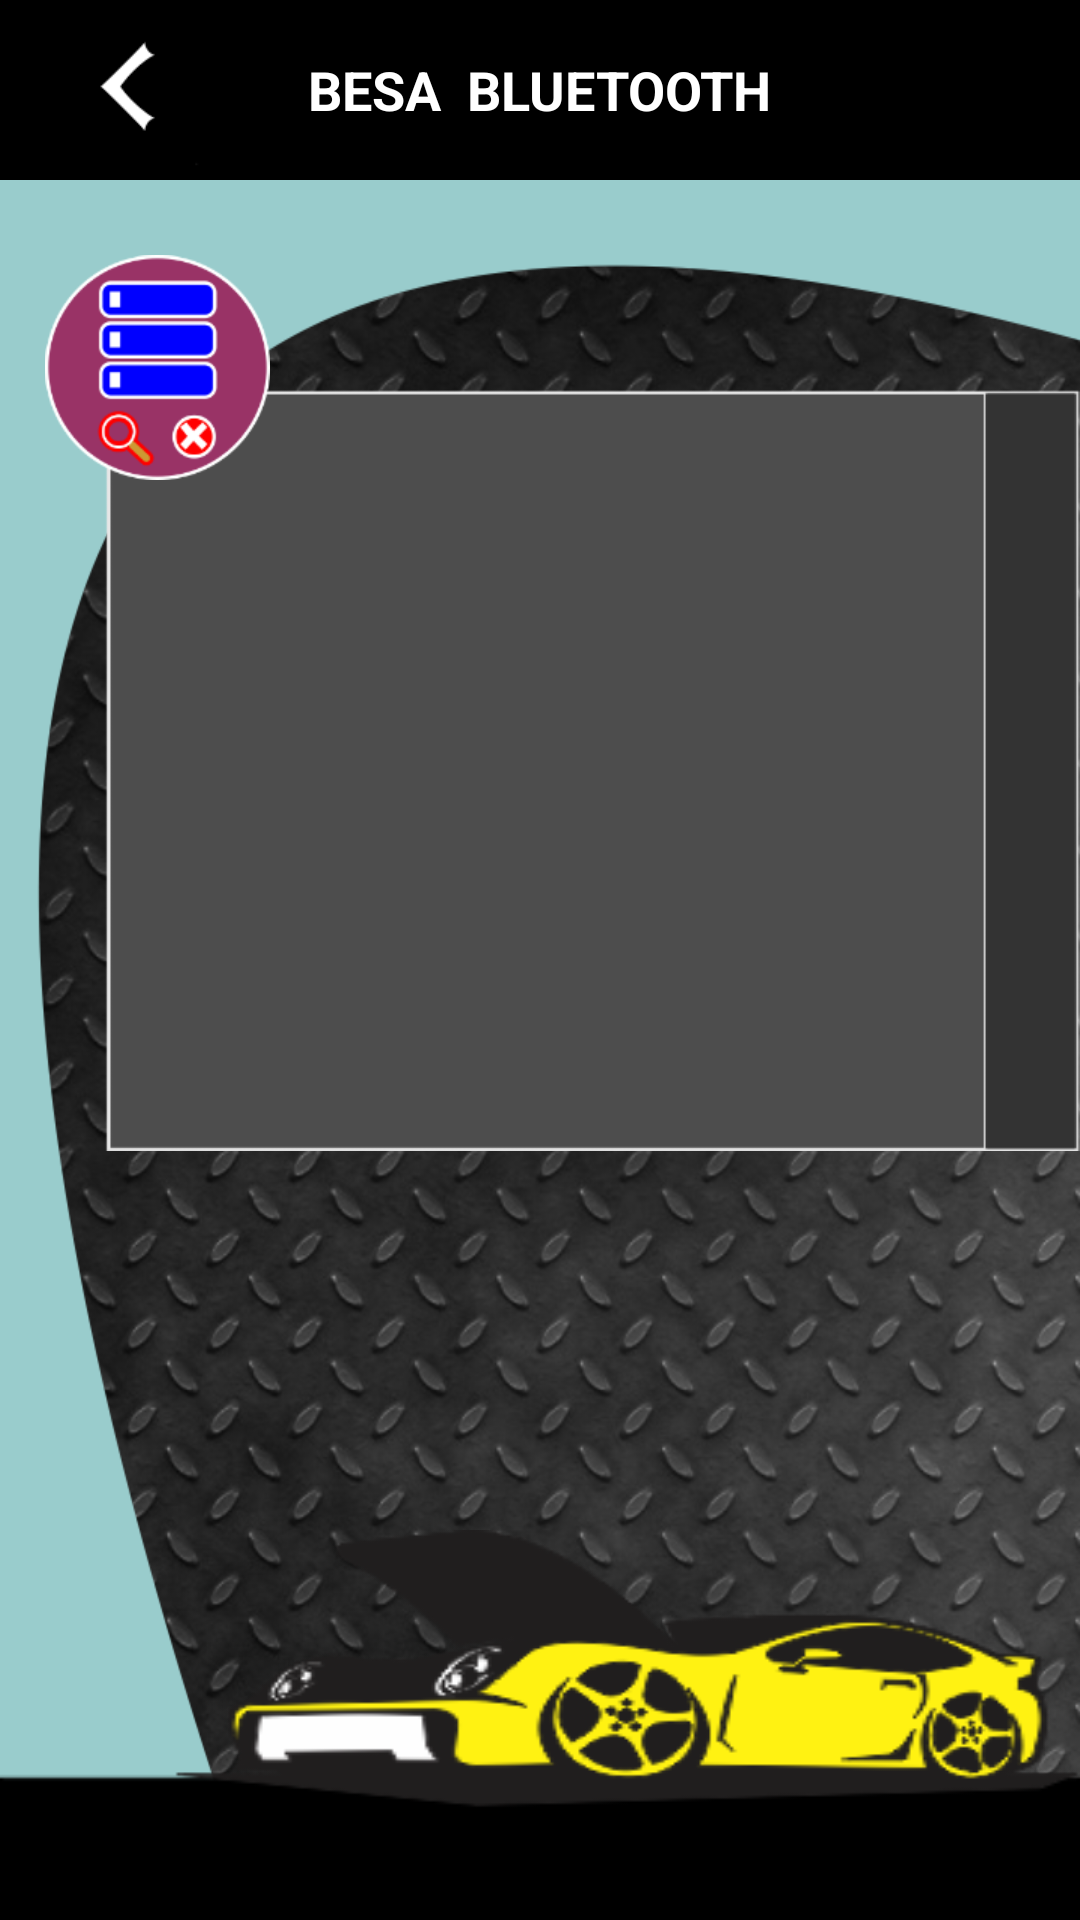

Icon bounding boxes for this 1080 x 1920 phone screenshot, format [x1=x1, y1=y1, x2=x2, y2=y2]:
back: [x1=100, y1=42, x2=155, y2=131]
